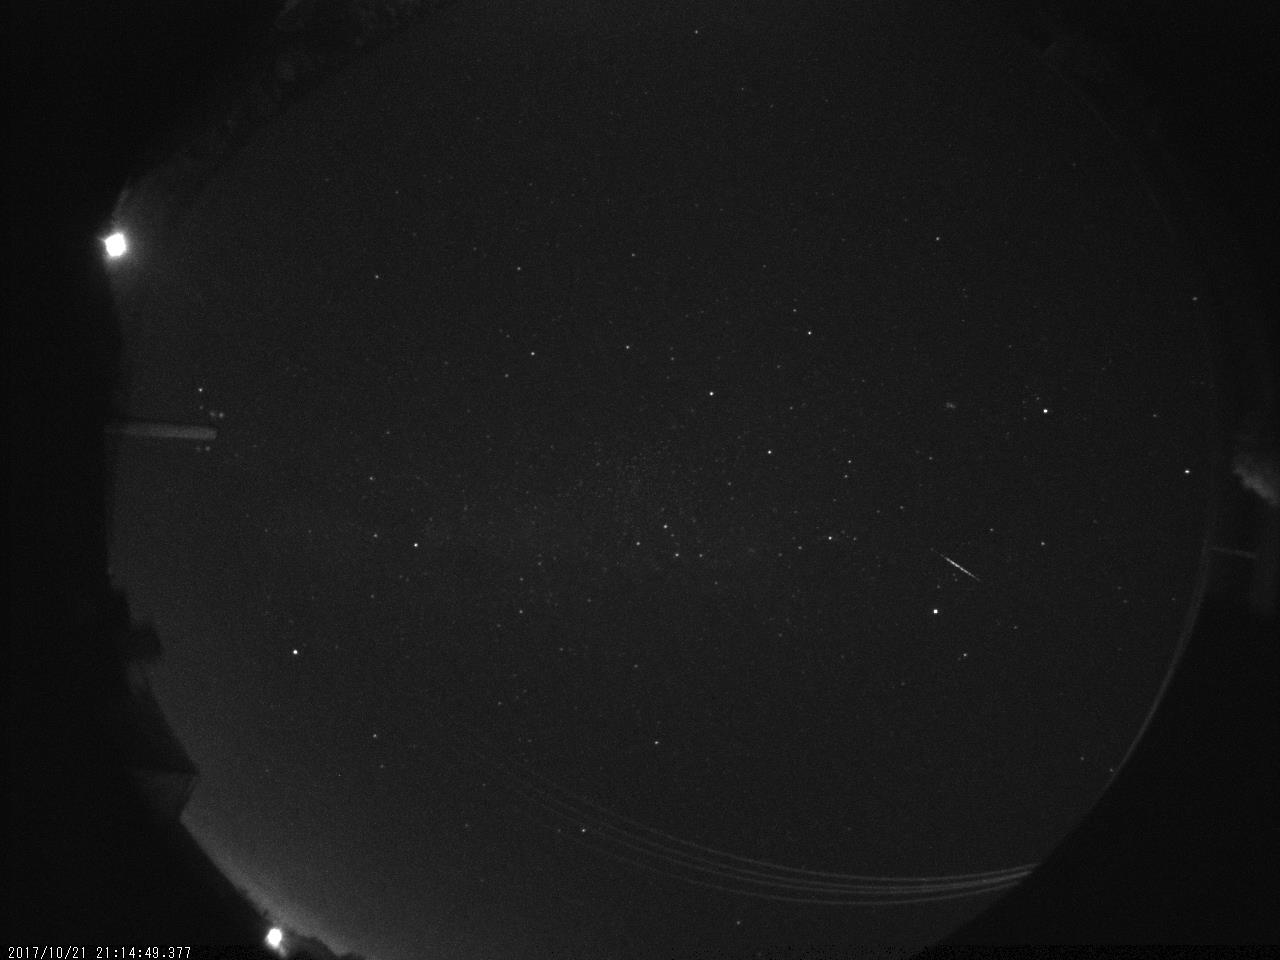meteor: (930, 544, 1004, 588)
